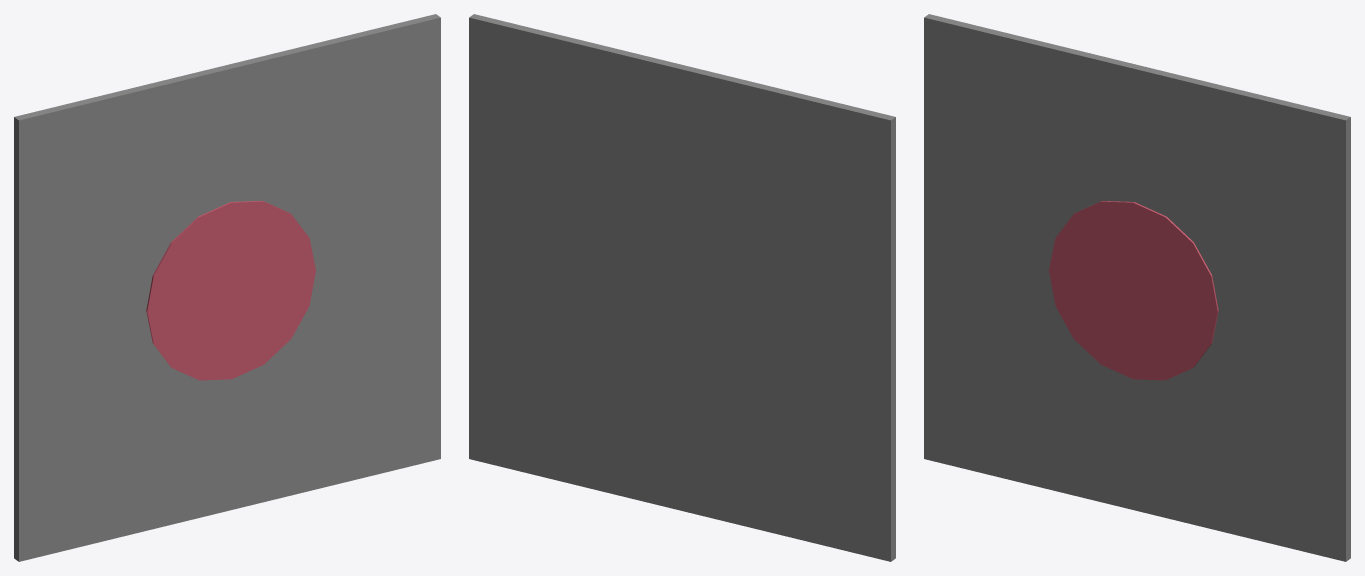
The model's file is landing_pad_v01.glb.
3 views of the same model, side by side, from view 1: azimuth 30°, elevation 25°; view 2: azimuth 150°, elevation 25°; view 3: azimuth 330°, elevation 25° (orthographic).
Parts seen in each view (by area): view 1: box_0, cylinder_1; view 2: box_0; view 3: box_0, cylinder_1.
Boxes of the visible parts, x1=… form: box_0: x1=14, y1=14, x2=440, y2=561; cylinder_1: x1=146, y1=201, x2=315, y2=380; box_0: x1=469, y1=14, x2=895, y2=561; box_0: x1=924, y1=14, x2=1350, y2=561; cylinder_1: x1=1049, y1=201, x2=1218, y2=380.
Size of the model in its own units: 6 by 6 by 0.1625.
